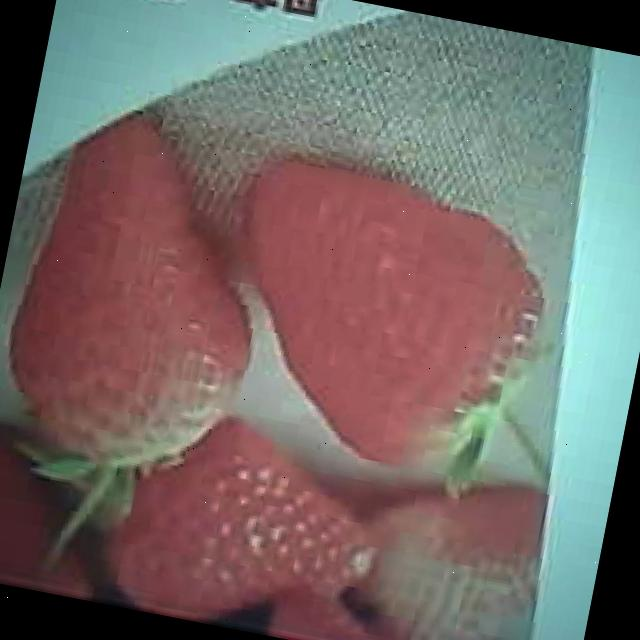strawberry: (208, 152, 568, 490), (0, 107, 288, 480), (94, 408, 384, 640)
